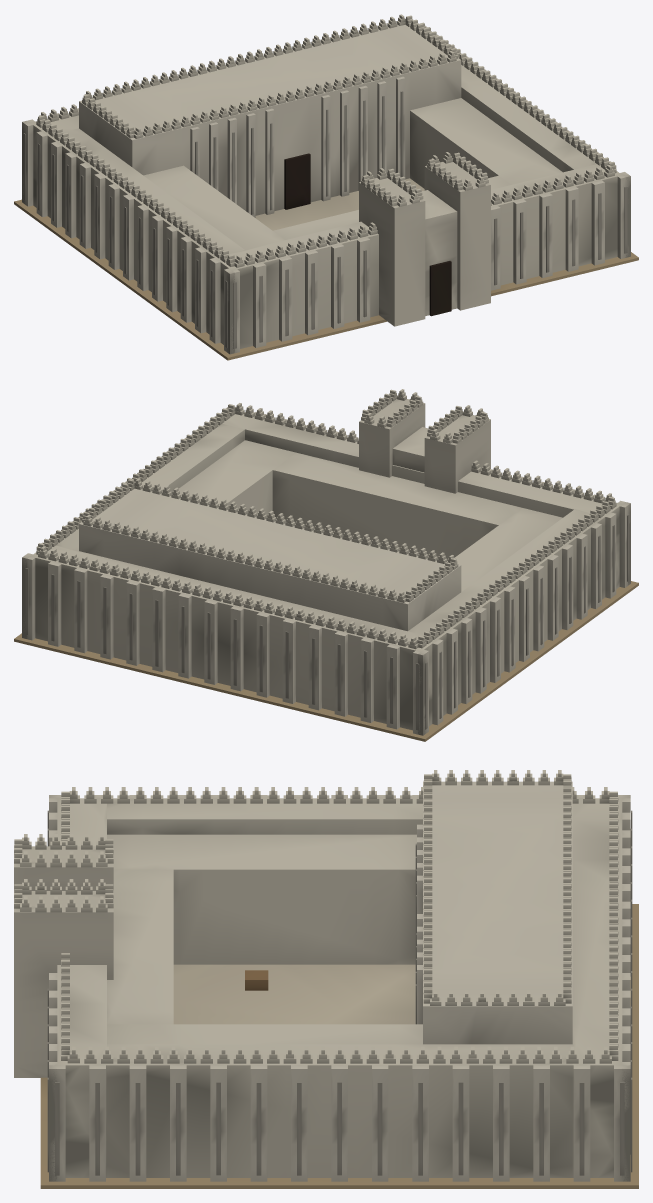
The model's file is emashdari.glb.
3 views of the same model, one above another, from view 1: azimuth 30°, elevation 25°; view 2: azimuth 150°, elevation 25°; view 3: azimuth 270°, elevation 25° (orthographic). The views are drawn at different scales.
Visible parts, largest first — view 1: p0_walls, p1_court and cella, p2_gate towers; view 2: p0_walls, p1_court and cella, p2_gate towers; view 3: p0_walls, p1_court and cella, p2_gate towers.
Part boxes in pixels (x1,y1,x2,y2): p0_walls: [14, 25, 638, 360]; p1_court and cella: [79, 24, 562, 249]; p2_gate towers: [36, 14, 616, 326]; p0_walls: [14, 406, 638, 741]; p1_court and cella: [79, 440, 562, 631]; p2_gate towers: [36, 389, 616, 649]; p0_walls: [40, 795, 638, 1188]; p1_court and cella: [107, 781, 572, 1044]; p2_gate towers: [14, 770, 618, 1077].
Bounding box in the file's own units: 40 × 12.05 × 37.6.
